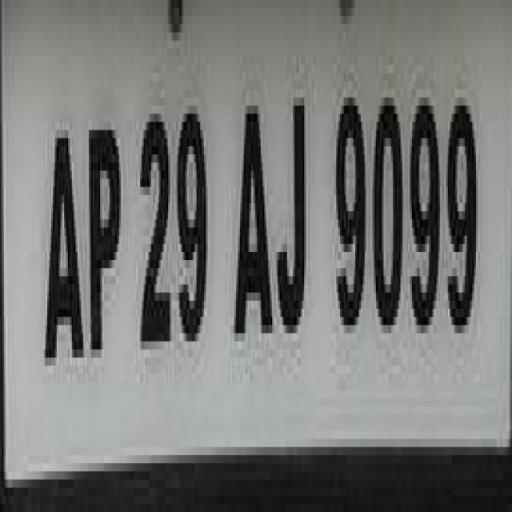number plate: (18, 0, 512, 487)
